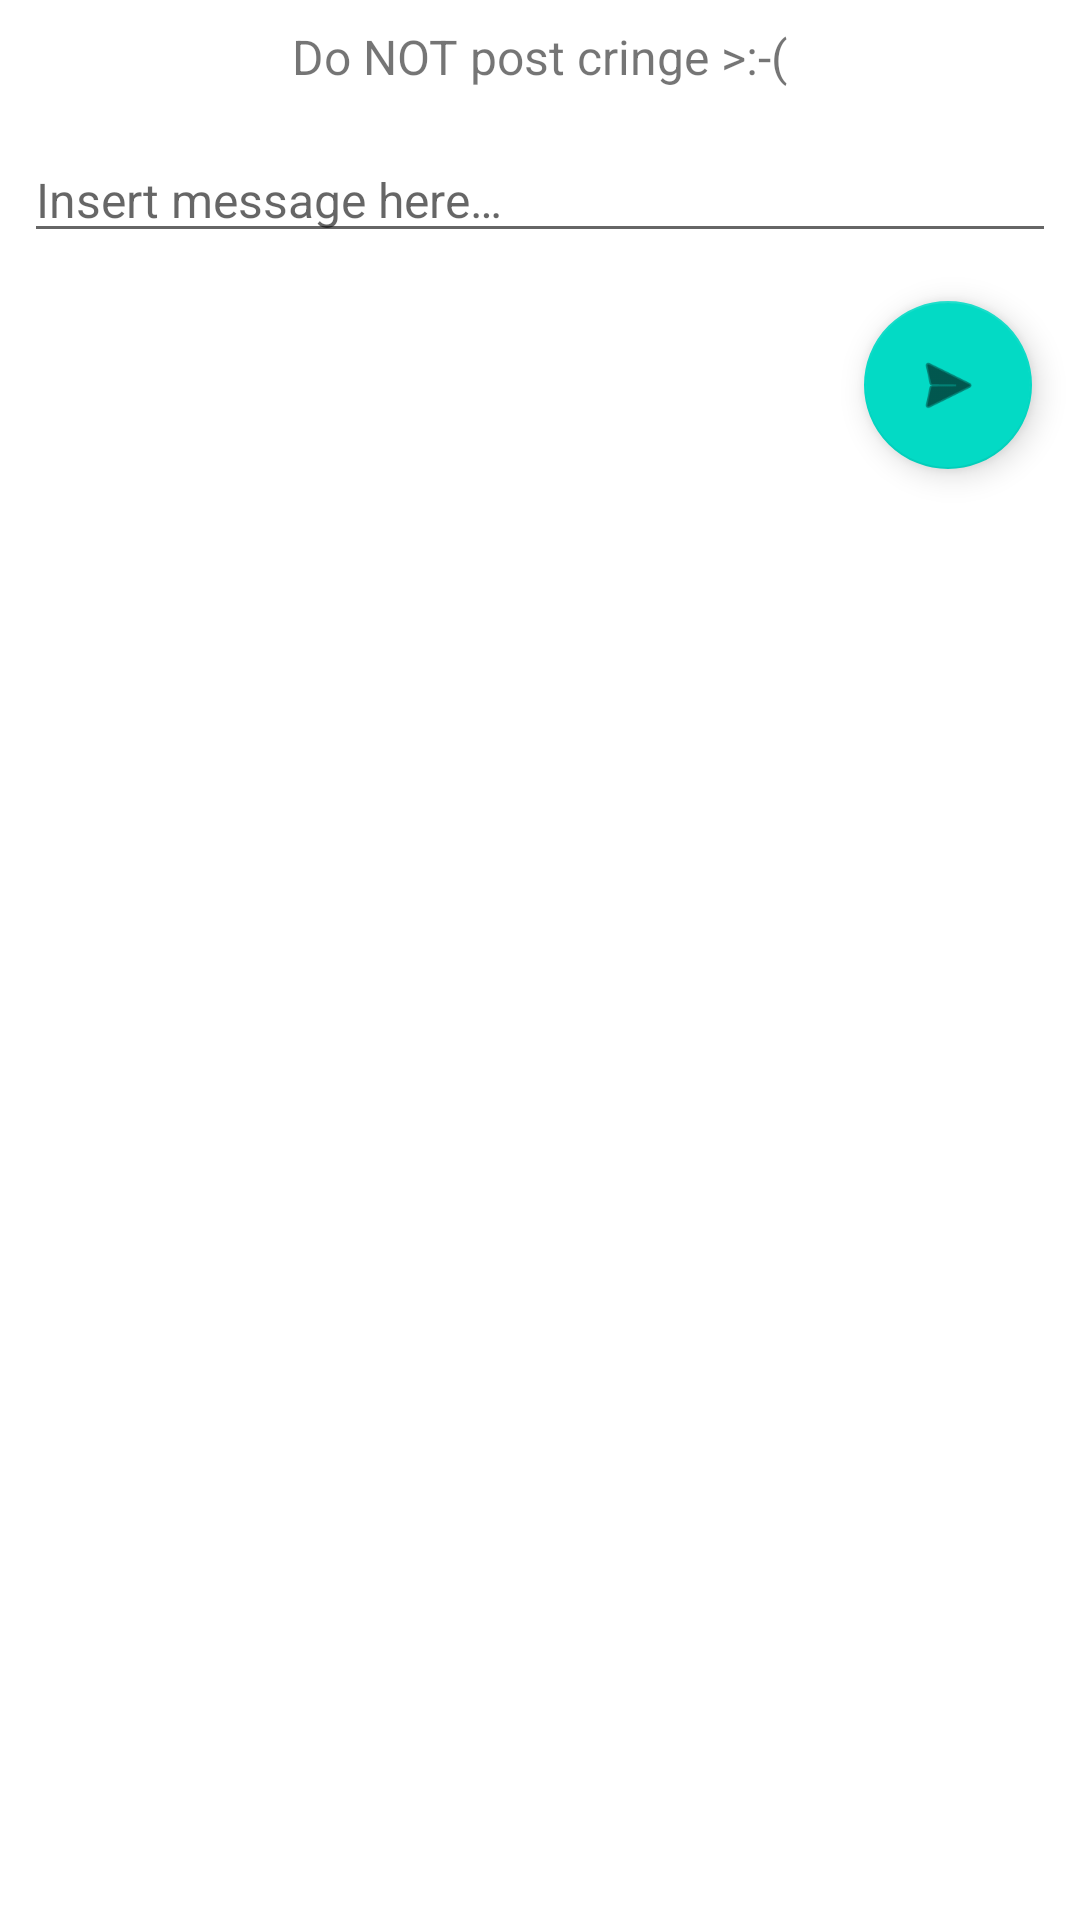

Icon bounding boxes for this 1080×1920 phone screenshot, format box=[x1, y1, x2, y2]:
Send post: box=[864, 301, 1032, 469]
